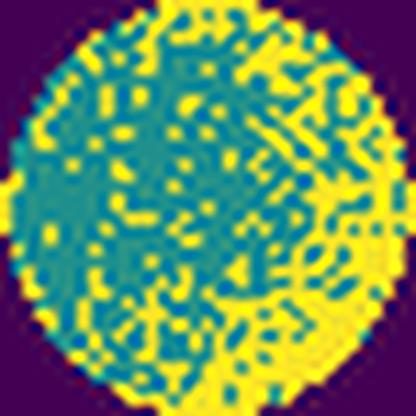Edge-Loc: (109, 42, 415, 416), (102, 0, 327, 104)
